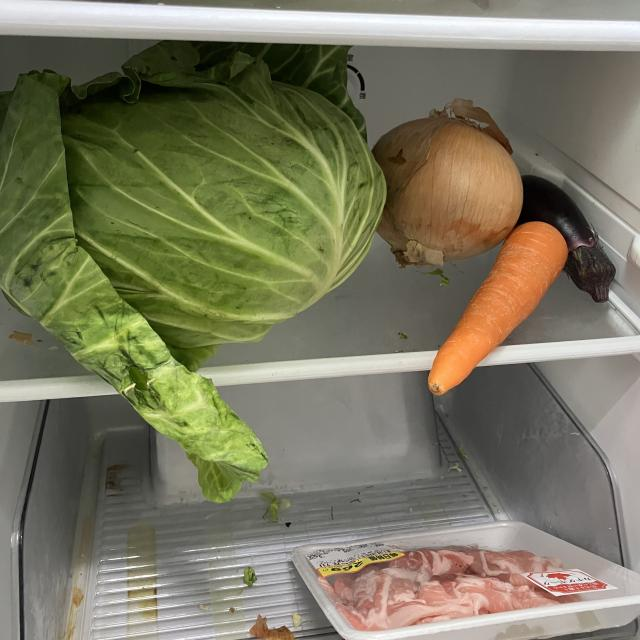cabbage: (1, 42, 393, 509)
carrot: (427, 221, 574, 400)
eggplant: (518, 176, 619, 309)
onion: (365, 94, 530, 274)
